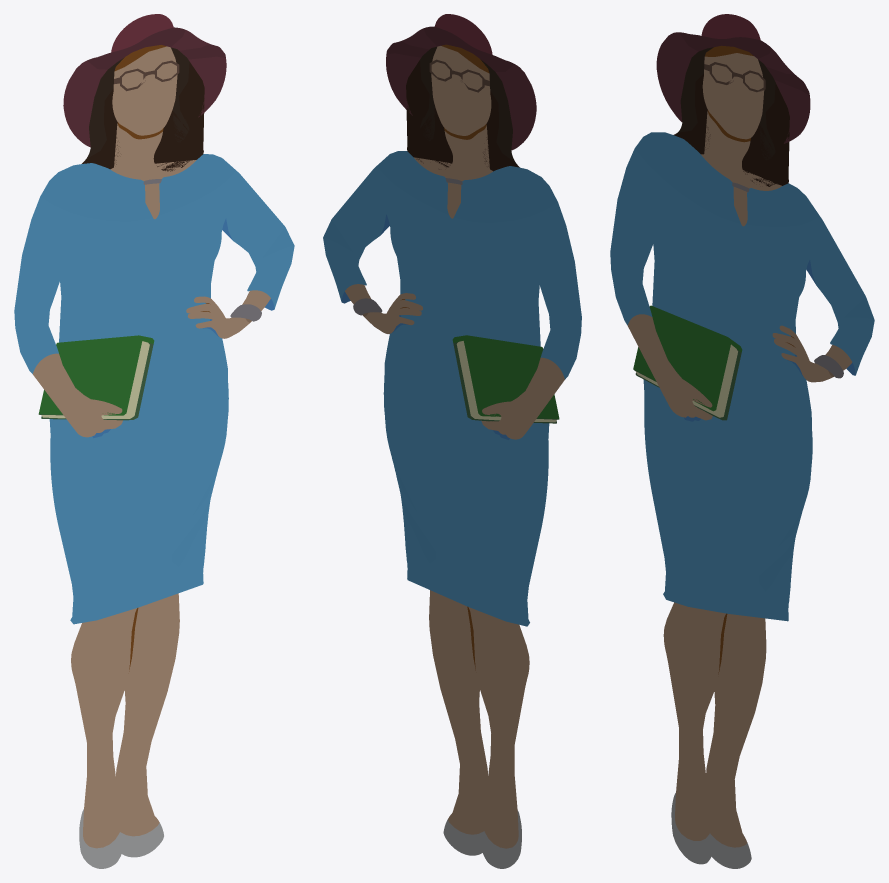
Rendered from SenderoFuente.fbx.
3 renders of one model, left to right at view 1: azimuth 30°, elevation 25°; view 2: azimuth 150°, elevation 25°; view 3: azimuth 330°, elevation 25°, orthographic. The views are drawn at different scales.
Visible parts, largest first — view 1: Teddy1; view 2: Teddy1; view 3: Teddy1.
Boxes of the visible parts, x1,y1,x2,y2 form: Teddy1: (14, 14, 294, 868); Teddy1: (323, 14, 581, 868); Teddy1: (610, 14, 874, 868).
Size of what is drawn, in the model's own units: 0.5886 by 1.76 by 0.0386.
